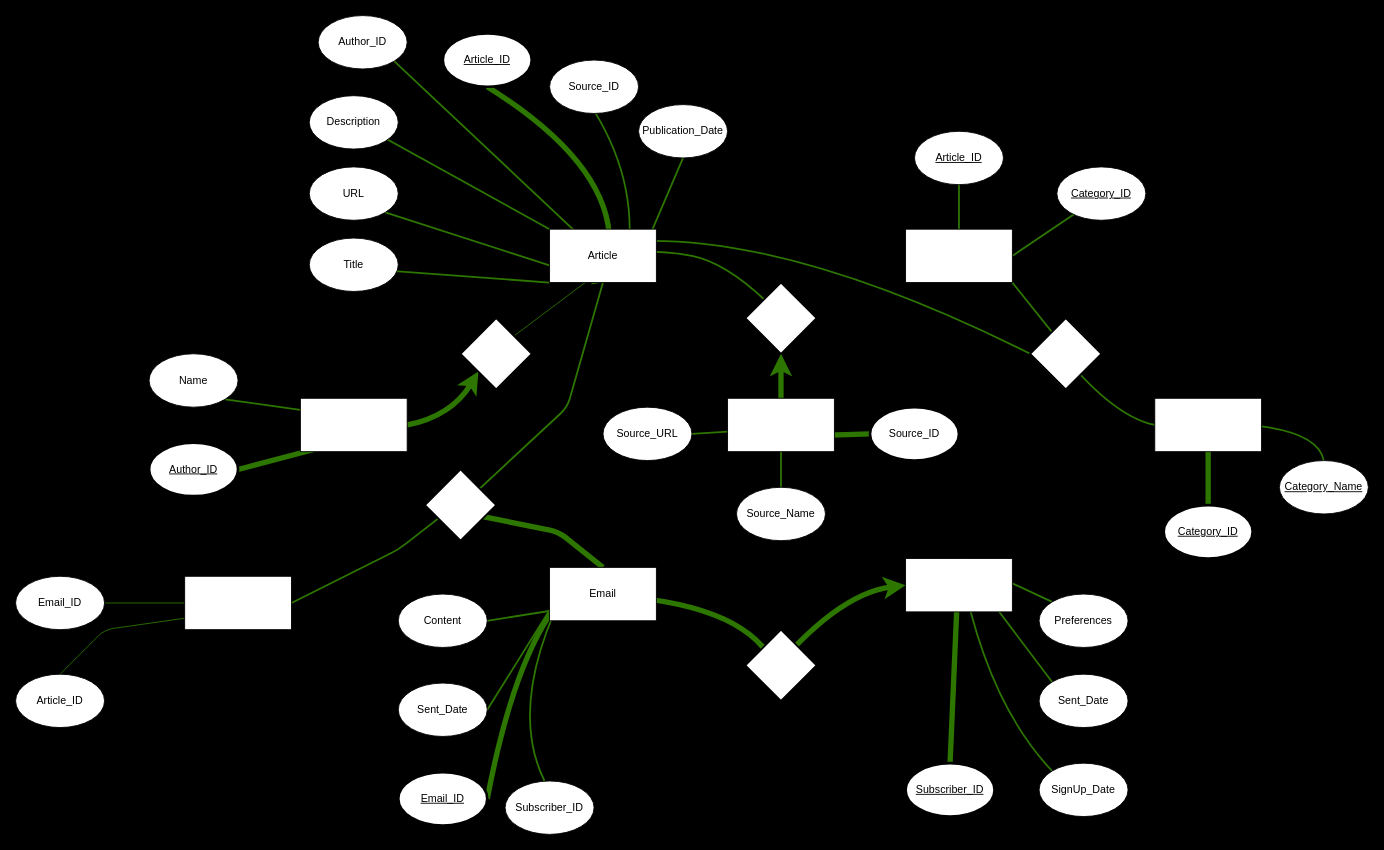
Image size: 1384x850. Some labels were removed from this diagram. Each missing label, with the centre of its shape:
Article_Category: point (958, 255)
Author: point (353, 424)
Category: point (1208, 424)
Classifies: point (1065, 353)
Included_In: point (237, 602)
Includes: point (460, 504)
Publishes: point (780, 317)
Sent To: point (780, 664)
Source: point (780, 424)
Subscriber: point (958, 585)
Writes: point (495, 353)
